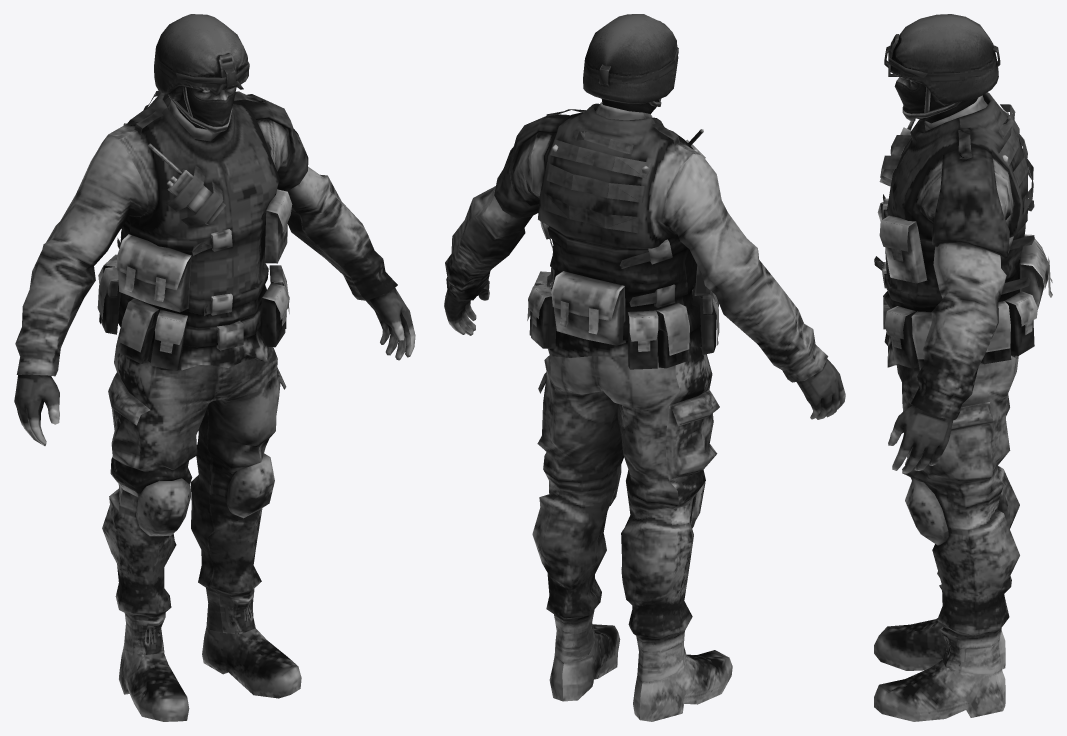
Rendered from soldier_disguise.FBX.
3 views of the same model, side by side, from view 1: azimuth 30°, elevation 25°; view 2: azimuth 150°, elevation 25°; view 3: azimuth 270°, elevation 25° (orthographic).
Parts seen in each view (by area): view 1: DrawCall_0; view 2: DrawCall_0; view 3: DrawCall_0.
Part boxes in pixels (left/top/right/bottom): DrawCall_0: left=14, top=14, right=415, bottom=721; DrawCall_0: left=444, top=14, right=845, bottom=721; DrawCall_0: left=874, top=14, right=1052, bottom=721.
Size of the model in its own units: 58.44 by 96.5 by 23.34.
